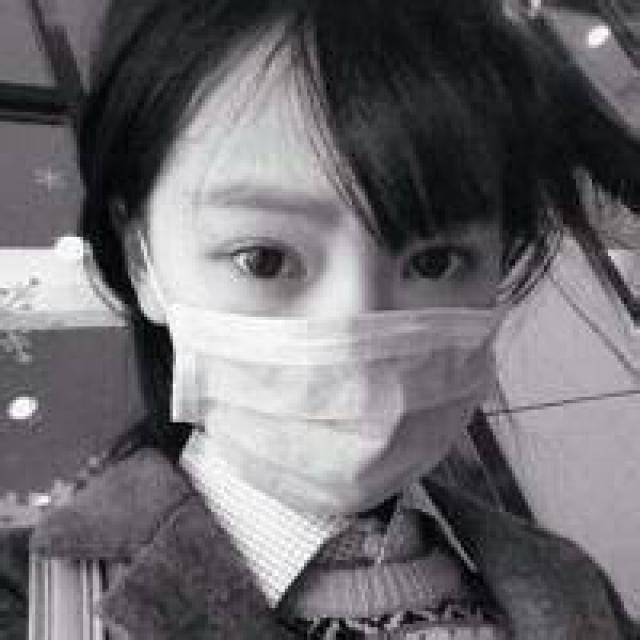mask: (165, 66, 501, 510)
